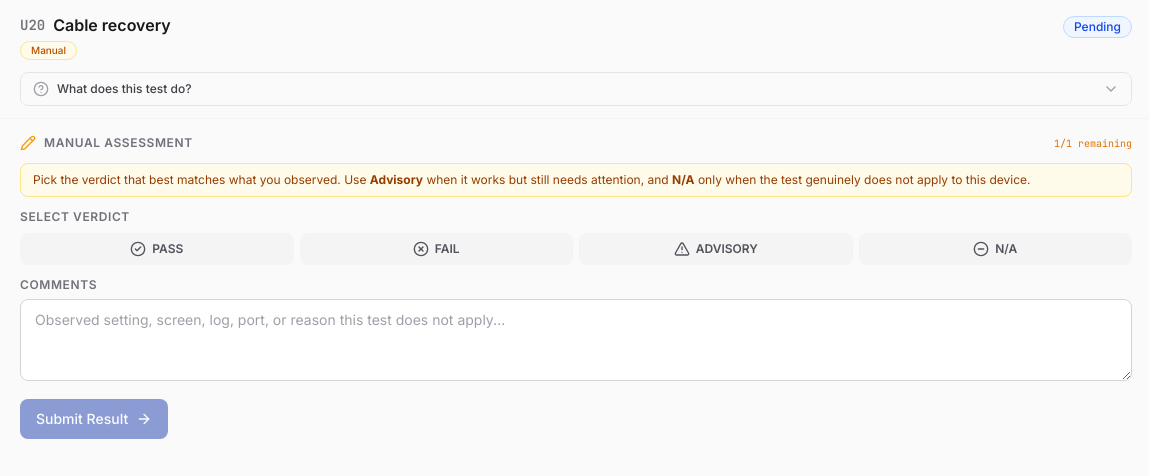
Test: TestDetail manual gating › requires engineer notes before saving a manual verdict
Click the button "PASS".
click(157, 249)  # box [20, 233, 294, 265]
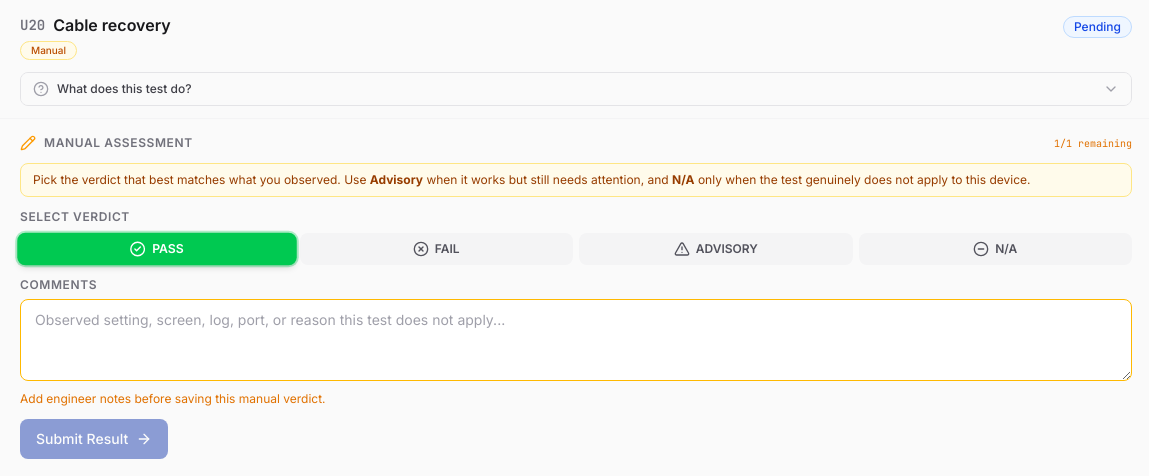
expect the button "Submit Result" is disabled: met, box [20, 419, 168, 459]
expect the text "Add engineer notes before saving this manual verdict." is shown: met, box [20, 391, 326, 406]
Replace the text in the text box labelled "Comments" with "OK" at [576, 340], box [20, 299, 1132, 381]
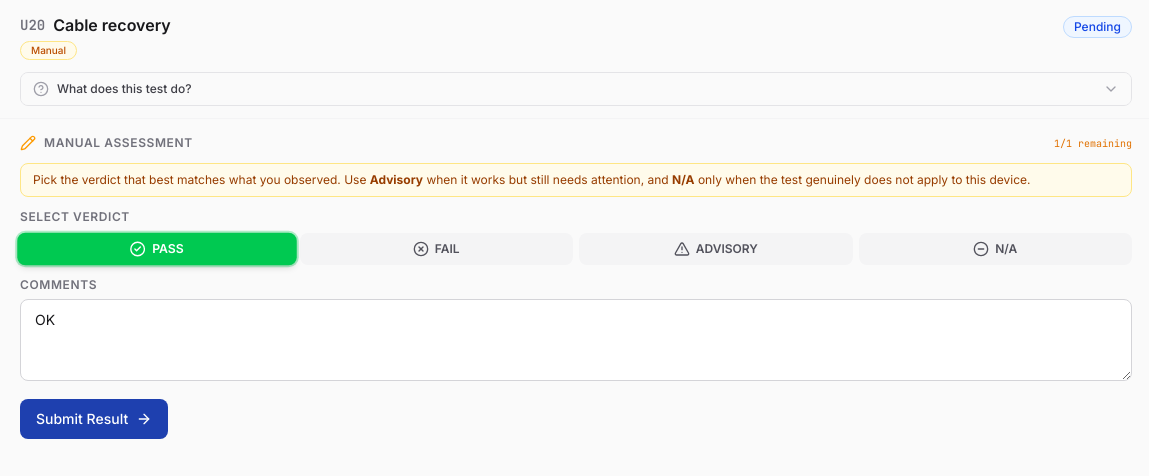
expect the button "Submit Result" is enabled: met, box [20, 399, 168, 439]
